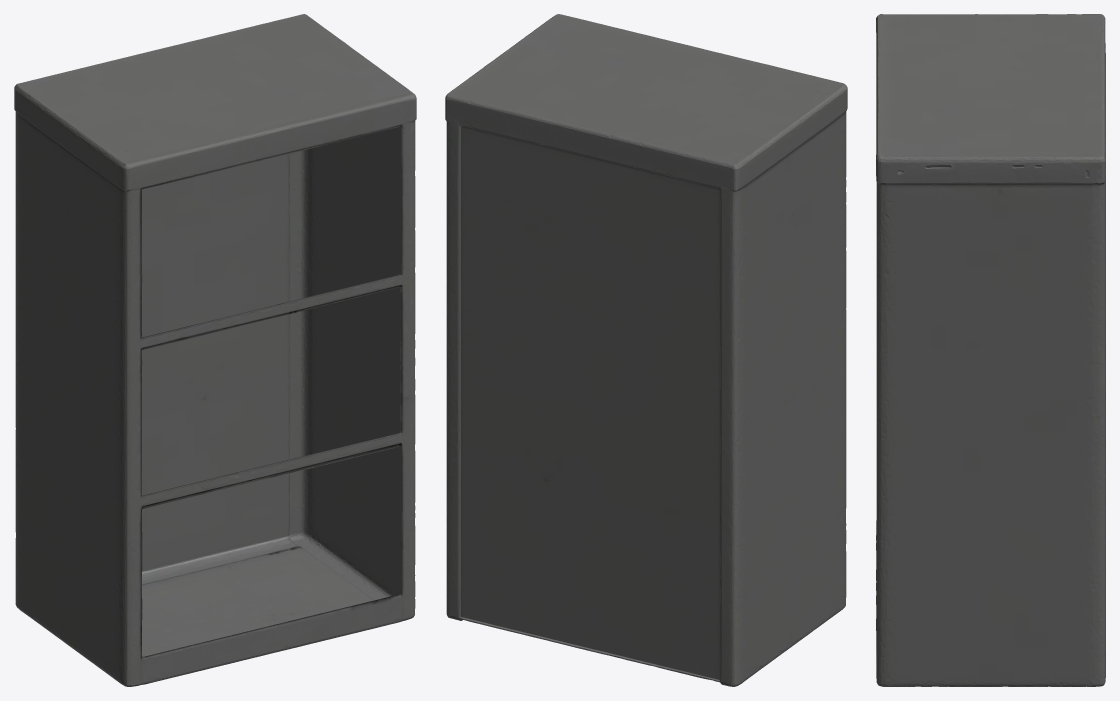
File: body.glb
The picture shows the model from 3 angles, left to right: view 1: azimuth 30°, elevation 25°; view 2: azimuth 150°, elevation 25°; view 3: azimuth 270°, elevation 25°; orthographic projection.
Visible parts, largest first — view 1: source_surface_0; view 2: source_surface_0; view 3: source_surface_0.
Part boxes in pixels (left/top/right/bottom): source_surface_0: left=14, top=14, right=416, bottom=686; source_surface_0: left=445, top=14, right=847, bottom=686; source_surface_0: left=876, top=14, right=1105, bottom=686.
Size of the model in its own units: 1.05 by 1.79 by 0.7006.
1 material, 1 textured.
